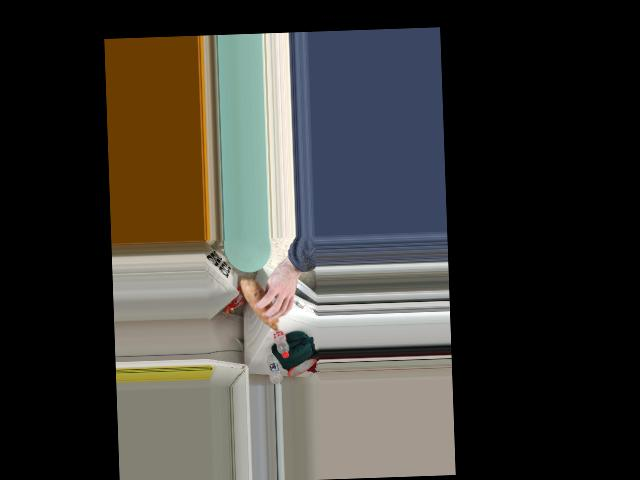sweet_potato: (241, 284, 285, 330)
